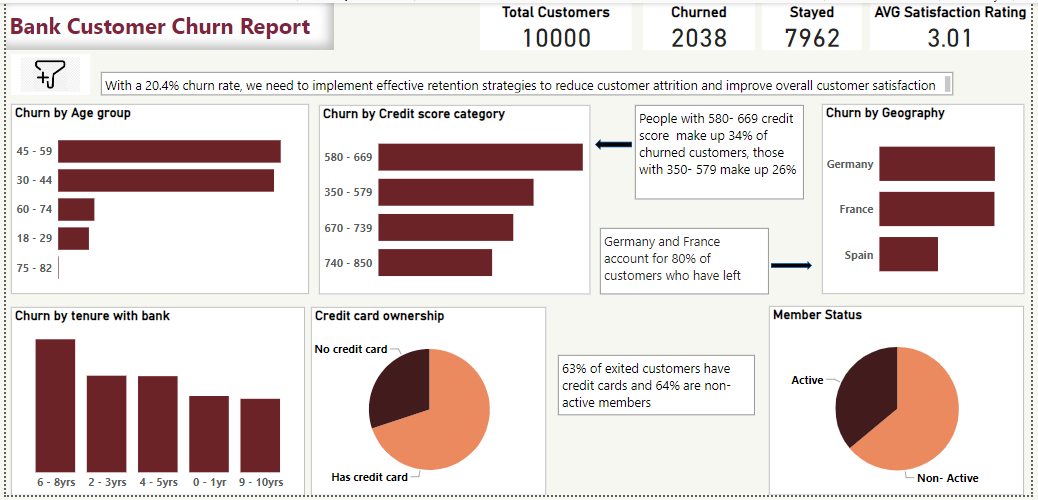

The page's visual inventory and layout, read from the dashboard file:
{"tool":"powerbi","page":{"name":"Page 1","canvas":[1500,720],"ordinal":0},"visuals":[{"type":"card","title":"Stayed","fields":{"Values":["Customer-Churn-Records.Stayed"]},"box":[1106.8,0,146.3,68.8],"z":0},{"type":"card","title":"Churned","fields":{"Values":["Customer-Churn-Records.Churned"]},"box":[931.7,0,163.9,68.8],"z":1000},{"type":"clusteredBarChart","title":"Churn by Age group","fields":{"Category":["Customer-Churn-Records.Age group"],"Y":["Customer-Churn-Records.Churned"]},"box":[7.3,147.8,436.1,278],"z":2000},{"type":"clusteredBarChart","title":"Churn by Credit score category","fields":{"Category":["Customer-Churn-Records.Credit score category"],"Y":["Customer-Churn-Records.Churned"]},"box":[458,149.3,396.6,276.6],"z":3000},{"type":"barChart","title":"Churn by Geography","fields":{"Category":["Customer-Churn-Records.Geography"],"Y":["Customer-Churn-Records.Churned"]},"box":[1194.1,147.8,295.6,278],"z":4000},{"type":"columnChart","title":"Churn by tenure with bank","fields":{"Category":["Customer-Churn-Records.Years with bank"],"Y":["Customer-Churn-Records.Churned"]},"box":[6.7,444.8,429.8,275.9],"z":5000},{"type":"pieChart","title":"Credit card ownership","fields":{"Category":["Customer-Churn-Records.Has credit card"],"Y":["Customer-Churn-Records.Churned"]},"box":[446.5,444.8,344.5,275.9],"z":6000},{"type":"card","title":"AVG Satisfaction Rating","fields":{"Values":["Avg(Customer-Churn-Records.Satisfaction Score)"]},"box":[1264.4,0,235.6,68.8],"z":7000},{"type":"textbox","box":[0,0,480,68.8],"z":8000},{"type":"textbox","box":[139,101,1246.8,33.7],"z":10000},{"type":"pieChart","title":" Member Status","fields":{"Category":["Customer-Churn-Records.Is an active member"],"Y":["Customer-Churn-Records.Churned"]},"box":[1116.6,443.4,373.2,276.6],"z":11000},{"type":"textbox","box":[807.8,515.1,288.3,87.8],"z":12000},{"type":"textbox","box":[920.5,149.3,247.3,137.6],"z":13000},{"type":"shape","box":[862,199,54.1,16.1],"z":14000},{"type":"textbox","box":[869.3,329.3,247.3,96.6],"z":15000},{"type":"shape","box":[1119.5,377.6,60,13.2],"z":16000},{"type":"image","box":[7.3,74.6,115.6,60],"z":17000},{"type":"card","title":"Total Customers","fields":{"Values":["Customer-Churn-Records.Total Customers"]},"box":[693.7,0,222.4,68.8],"z":17001}]}

Visuals, with their boxes in screenshot pixels (x1, y1, x2, y2), scaled from the page's 1500x720 canvas onto the 1038x500 screenshot:
"Stayed" card: (left=766, top=0, right=867, bottom=48)
"Churned" card: (left=645, top=0, right=758, bottom=48)
"Churn by Age group" clusteredBarChart: (left=5, top=103, right=307, bottom=296)
"Churn by Credit score category" clusteredBarChart: (left=317, top=104, right=591, bottom=296)
"Churn by Geography" barChart: (left=826, top=103, right=1031, bottom=296)
"Churn by tenure with bank" columnChart: (left=5, top=309, right=302, bottom=499)
"Credit card ownership" pieChart: (left=309, top=309, right=547, bottom=499)
"AVG Satisfaction Rating" card: (left=875, top=0, right=1037, bottom=48)
textbox: (left=0, top=0, right=332, bottom=48)
textbox: (left=96, top=70, right=959, bottom=94)
" Member Status" pieChart: (left=773, top=308, right=1031, bottom=499)
textbox: (left=559, top=358, right=759, bottom=419)
textbox: (left=637, top=104, right=808, bottom=199)
shape: (left=597, top=138, right=634, bottom=149)
textbox: (left=602, top=229, right=773, bottom=296)
shape: (left=775, top=262, right=816, bottom=271)
image: (left=5, top=52, right=85, bottom=93)
"Total Customers" card: (left=480, top=0, right=634, bottom=48)
